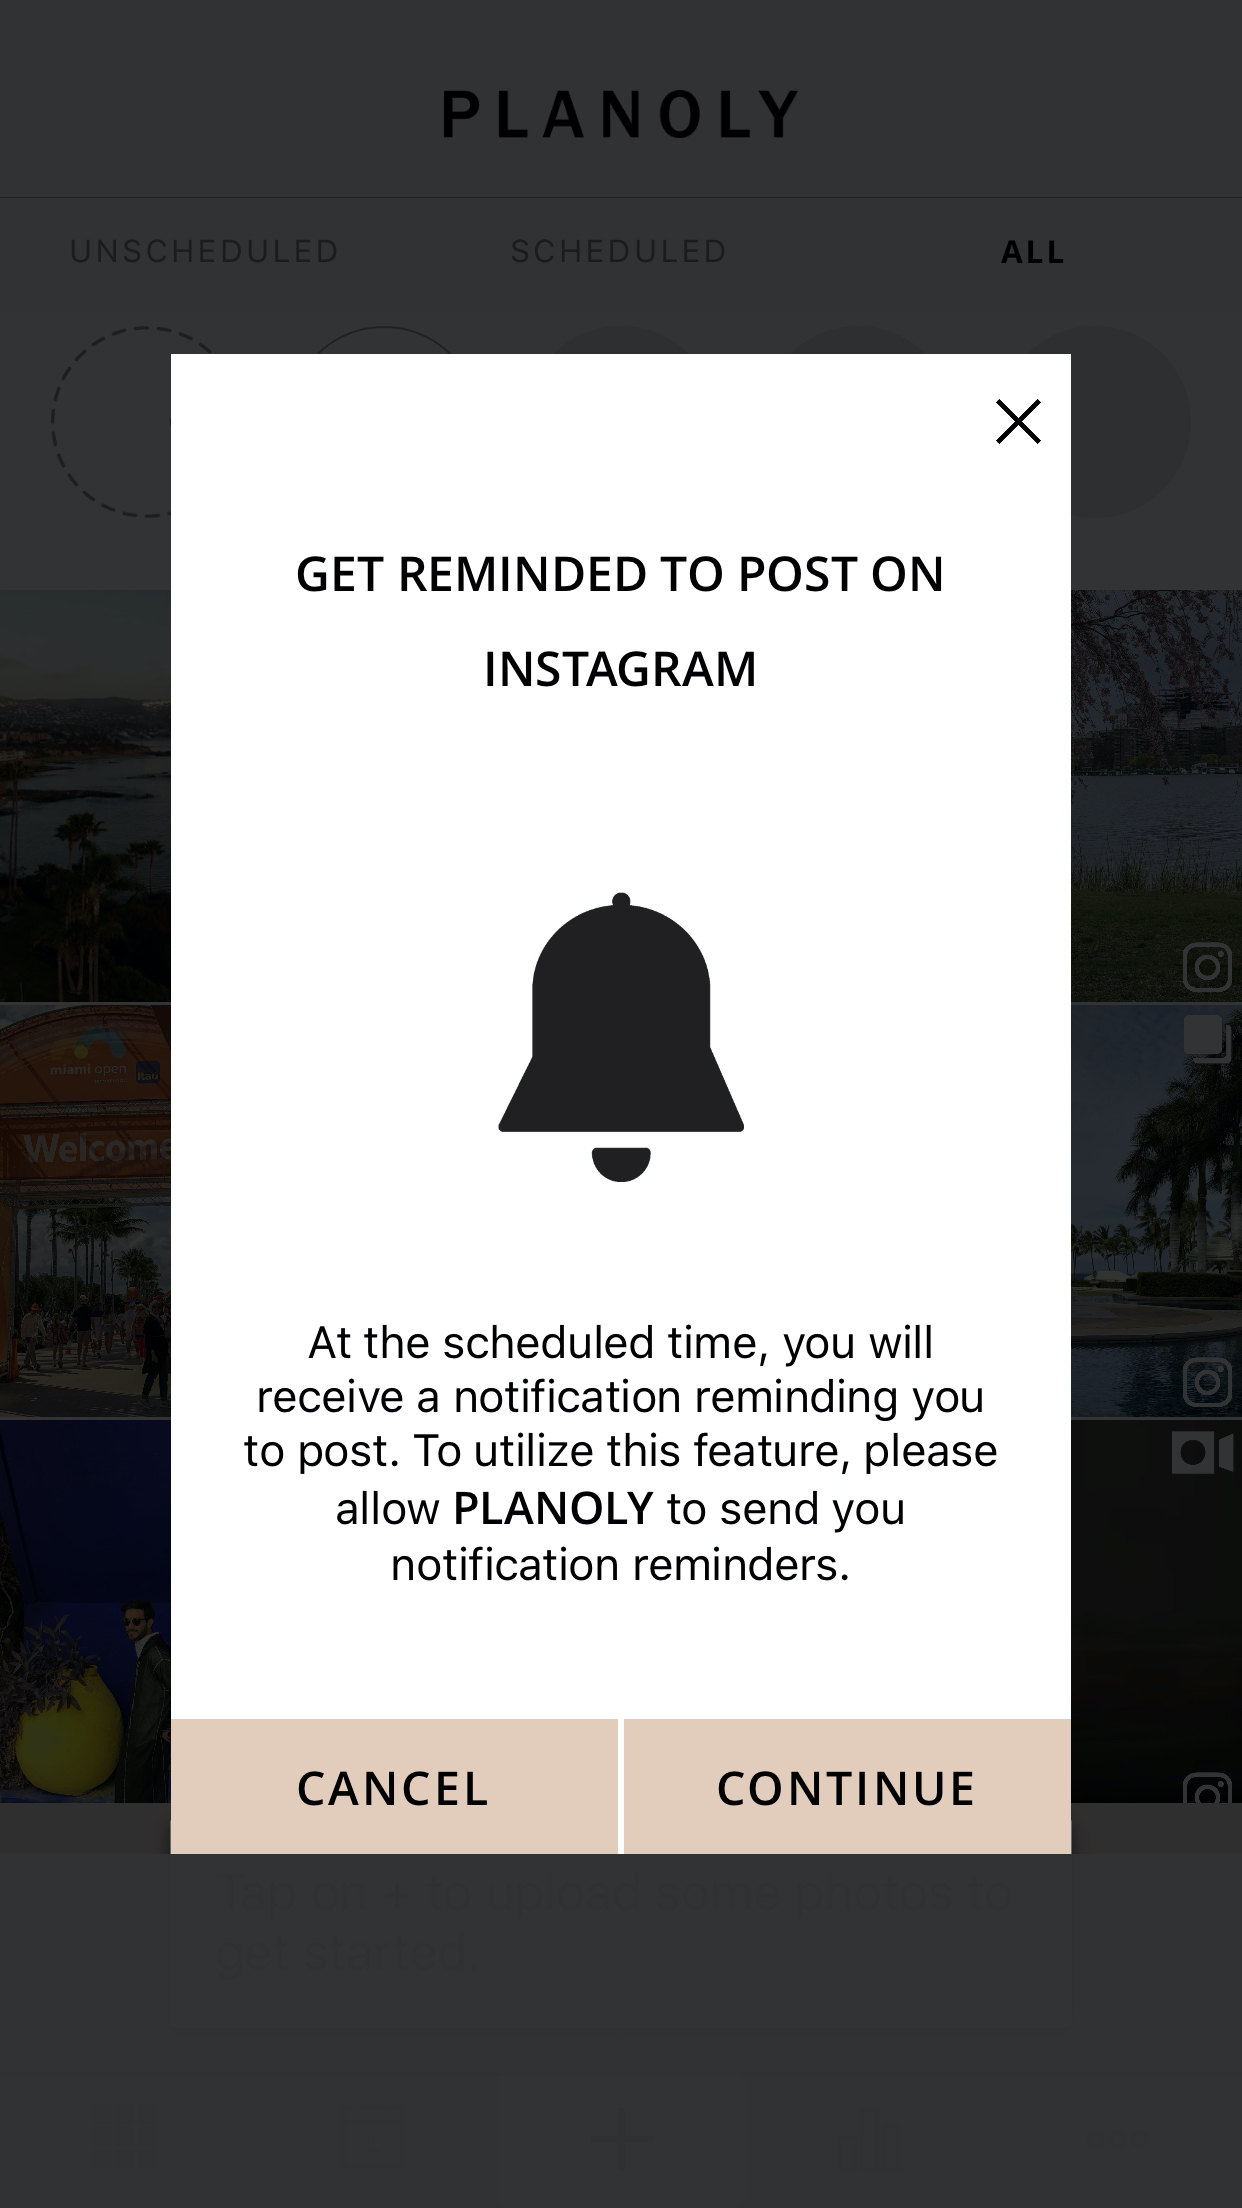Icon: (497, 892, 745, 1181), (996, 399, 1040, 444)
Modal: (171, 353, 1071, 1855)
Text: (244, 1324, 996, 1582), (297, 557, 942, 687)
TextButton: (623, 1720, 1071, 1855), (171, 1720, 619, 1855)
